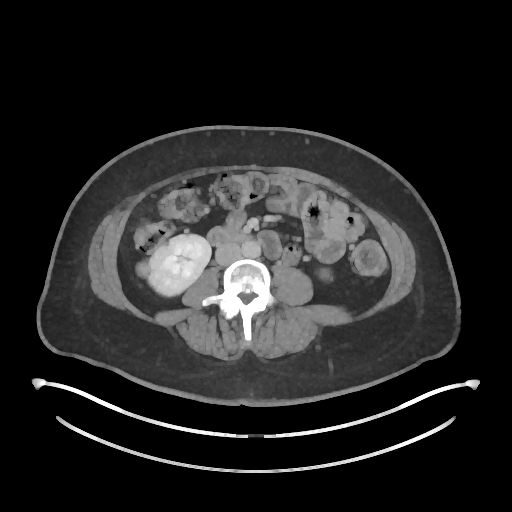Lesion: (132, 254, 153, 280)
